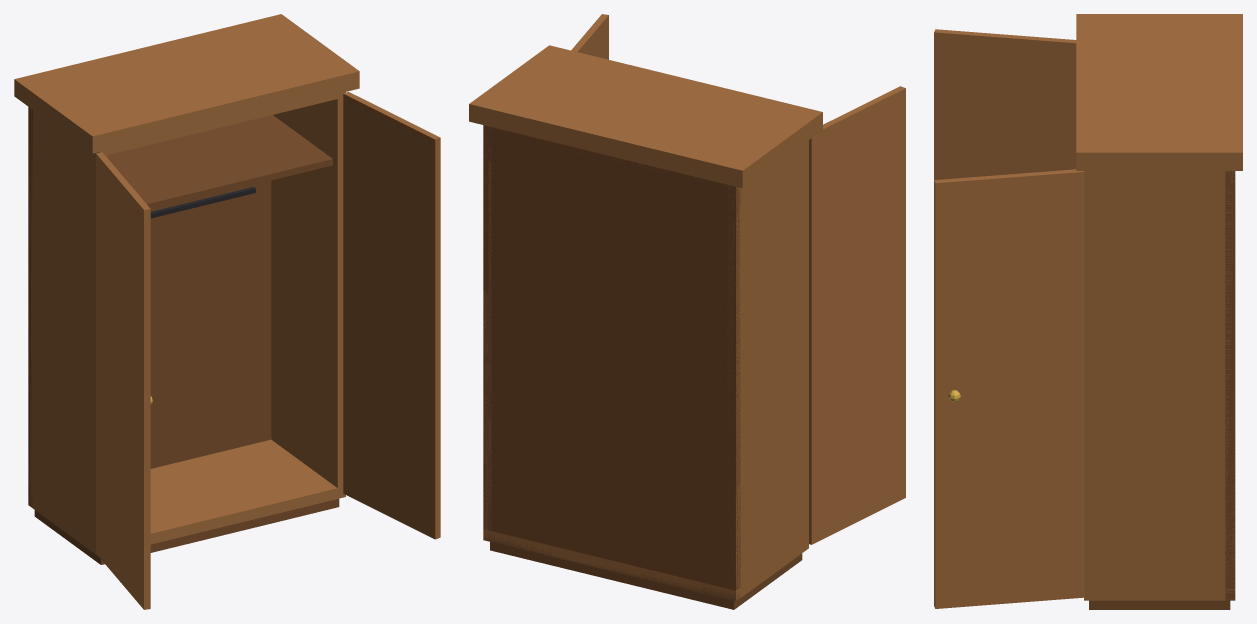
Rendered from showroom_wardrobe.glb.
The picture shows the model from 3 angles, left to right: view 1: azimuth 30°, elevation 25°; view 2: azimuth 150°, elevation 25°; view 3: azimuth 270°, elevation 25°; orthographic projection. The views are drawn at different scales.
Visible parts, largest first — view 1: door_wardrobe_wood, side_wardrobe_wood, back_wardrobe_inside, crown_wardrobe_wood, bottom_wardrobe_wood, shelf_wardrobe_inside, plinth_wardrobe_inside, top_wardrobe_wood; view 2: back_wardrobe_inside, door_wardrobe_wood, side_wardrobe_wood, crown_wardrobe_wood, bottom_wardrobe_wood, plinth_wardrobe_inside; view 3: door_wardrobe_wood, side_wardrobe_wood, crown_wardrobe_wood, back_wardrobe_inside, plinth_wardrobe_inside, bottom_wardrobe_wood.
Part boxes in pixels (box(x1,y1,x2,y2)): door_wardrobe_wood: box(96, 92, 440, 609); side_wardrobe_wood: box(28, 92, 345, 556); back_wardrobe_inside: box(28, 107, 271, 506); crown_wardrobe_wood: box(14, 14, 359, 153); bottom_wardrobe_wood: box(65, 439, 345, 544); shelf_wardrobe_inside: box(107, 115, 332, 209); plinth_wardrobe_inside: box(34, 498, 339, 564); top_wardrobe_wood: box(95, 93, 343, 155); back_wardrobe_inside: box(483, 125, 740, 601); door_wardrobe_wood: box(571, 14, 905, 544); side_wardrobe_wood: box(483, 126, 808, 600); crown_wardrobe_wood: box(469, 45, 822, 188); bottom_wardrobe_wood: box(483, 529, 808, 600); plinth_wardrobe_inside: box(490, 542, 802, 609); door_wardrobe_wood: box(934, 29, 1084, 608); side_wardrobe_wood: box(1084, 171, 1235, 600); crown_wardrobe_wood: box(1076, 14, 1242, 170); back_wardrobe_inside: box(1225, 171, 1235, 600); plinth_wardrobe_inside: box(1089, 600, 1230, 609); bottom_wardrobe_wood: box(1084, 589, 1235, 600).
Bounding box in the file's own units: 1.47 × 2.03 × 1.22.
